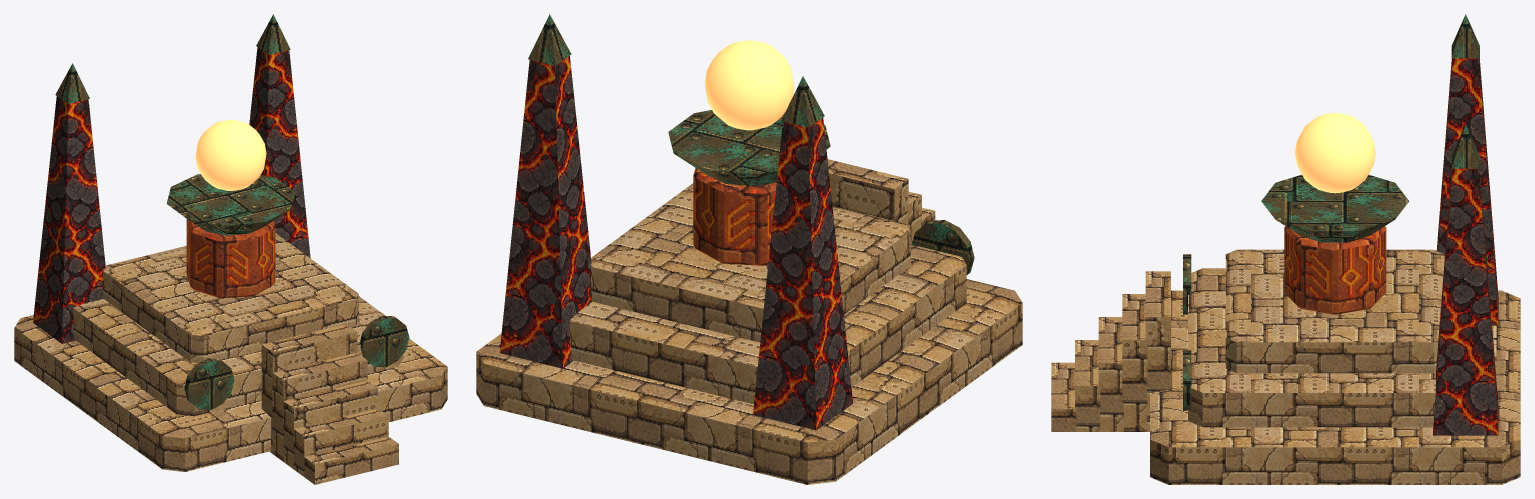
The model's file is ruin_altar.glb.
3 views of the same model, side by side, from view 1: azimuth 30°, elevation 25°; view 2: azimuth 150°, elevation 25°; view 3: azimuth 270°, elevation 25° (orthographic). The views are drawn at different scales.
Parts seen in each view (by area): view 1: Tier0, Tier2, Obelisk-1, Tier1, Obelisk1, Pedestal, Bowl, Orb, Stair3, Stair4, Stair2, Stair1 (+5 smaller); view 2: Tier0, Obelisk-1, Tier1, Tier2, Obelisk1, Pedestal, Orb, Bowl, Stair4, Disc-1, Tip-1, Tip1; view 3: Tier0, Tier2, Tier1, Obelisk1, Pedestal, Bowl, Obelisk-1, Orb, Stair3, Stair4, Stair2, Stair1 (+4 smaller).
Boxes of the visible parts, x1,y1,x2,y2 form: Tier0: (14,315,447,471); Tier2: (103,233,358,363); Obelisk-1: (33,96,105,343); Tier1: (73,296,403,416); Obelisk1: (249,47,310,257); Pedestal: (186,219,275,298); Bowl: (166,174,295,235); Orb: (195,120,266,190); Stair3: (272,352,367,461); Stair4: (261,324,357,453); Stair2: (283,380,377,469); Stair1: (293,408,388,476); Tier0: (476,279,1022,484); Obelisk-1: (753,117,852,430); Tier1: (569,243,966,404); Tier2: (590,183,910,342); Obelisk1: (499,55,592,368); Pedestal: (693,168,776,265); Orb: (704,40,794,130); Bowl: (668,110,830,186); Stair4: (827,159,908,226); Disc-1: (912,220,974,274); Tip-1: (781,76,824,127); Tip1: (528,14,571,65); Tier0: (1150,290,1520,484); Tier2: (1225,249,1444,373); Tier1: (1188,268,1435,427); Obelisk1: (1433,168,1498,435); Pedestal: (1284,226,1386,314); Bowl: (1261,174,1408,242); Obelisk-1: (1436,58,1498,325); Orb: (1295,113,1375,193); Stair3: (1122,294,1147,431); Stair4: (1145,271,1170,431); Stair2: (1098,317,1123,431); Stair1: (1075,340,1100,431).
Bounding box in the file's own units: 4.4 × 4.45 × 5.57.
Materials: 5 (4 with a texture image).
